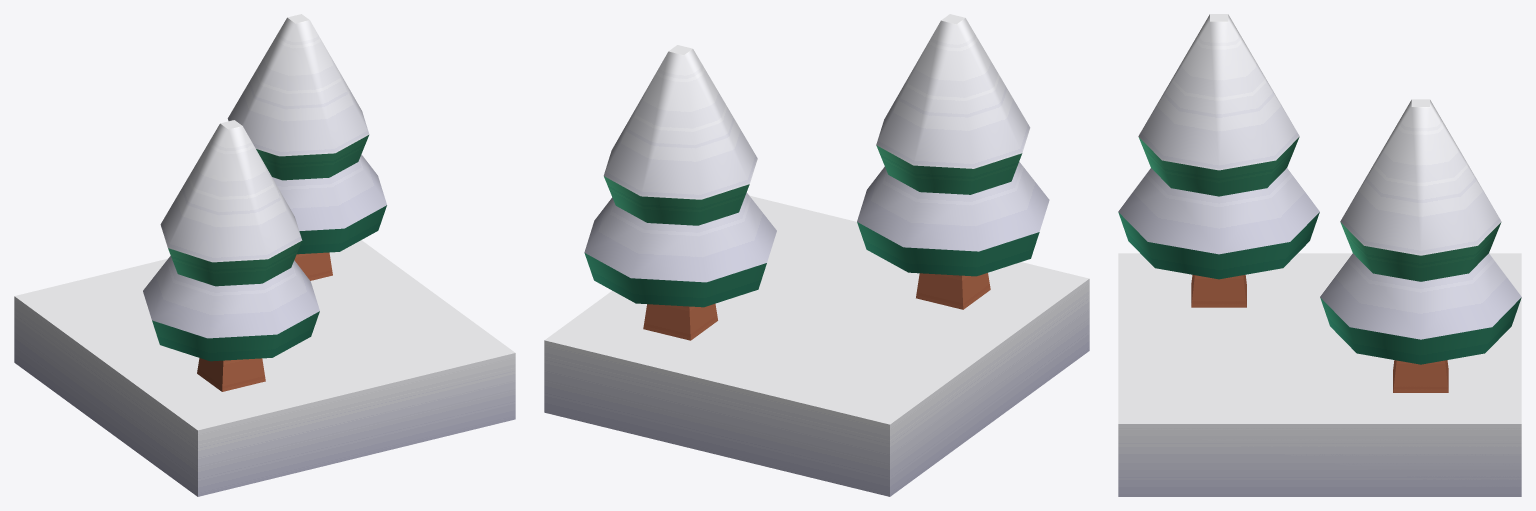
The model's file is snow-tile-tree-double.glb.
The picture shows the model from 3 angles, left to right: view 1: azimuth 30°, elevation 25°; view 2: azimuth 150°, elevation 25°; view 3: azimuth 270°, elevation 25°; orthographic projection. The views are drawn at different scales.
Parts seen in each view (by area): view 1: snow-tile-tree-double; view 2: snow-tile-tree-double; view 3: snow-tile-tree-double.
Boxes of the visible parts, x1,y1,x2,y2 form: snow-tile-tree-double: (14,14,515,496); snow-tile-tree-double: (544,14,1089,496); snow-tile-tree-double: (1118,14,1521,496).
Bounding box in the file's own units: 1 × 0.96 × 1.
1 material, 1 textured.
